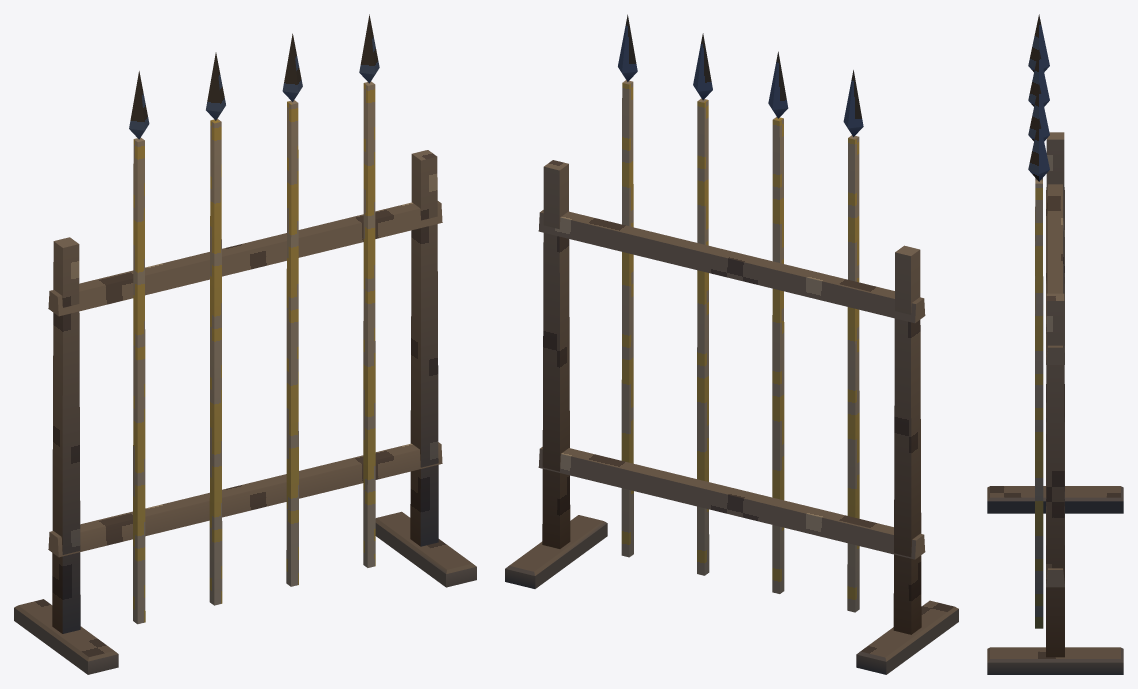
Rendered from mprop.weapon_rack.glb.
3 views of the same model, side by side, from view 1: azimuth 30°, elevation 25°; view 2: azimuth 150°, elevation 25°; view 3: azimuth 270°, elevation 25° (orthographic). The views are drawn at different scales.
Visible parts, largest first — view 1: kit_frame, kit_arms; view 2: kit_frame, kit_arms; view 3: kit_frame, kit_arms.
Part boxes in pixels (<box>): kit_frame: <box>14,150,476,674</box>; kit_arms: <box>129,14,379,624</box>; kit_frame: <box>505,160,958,674</box>; kit_arms: <box>618,14,863,612</box>; kit_frame: <box>987,132,1123,674</box>; kit_arms: <box>1028,14,1049,628</box>.
Size of the model in its own units: 1.52 by 2.11 by 0.5.
3 materials, 3 textured.
